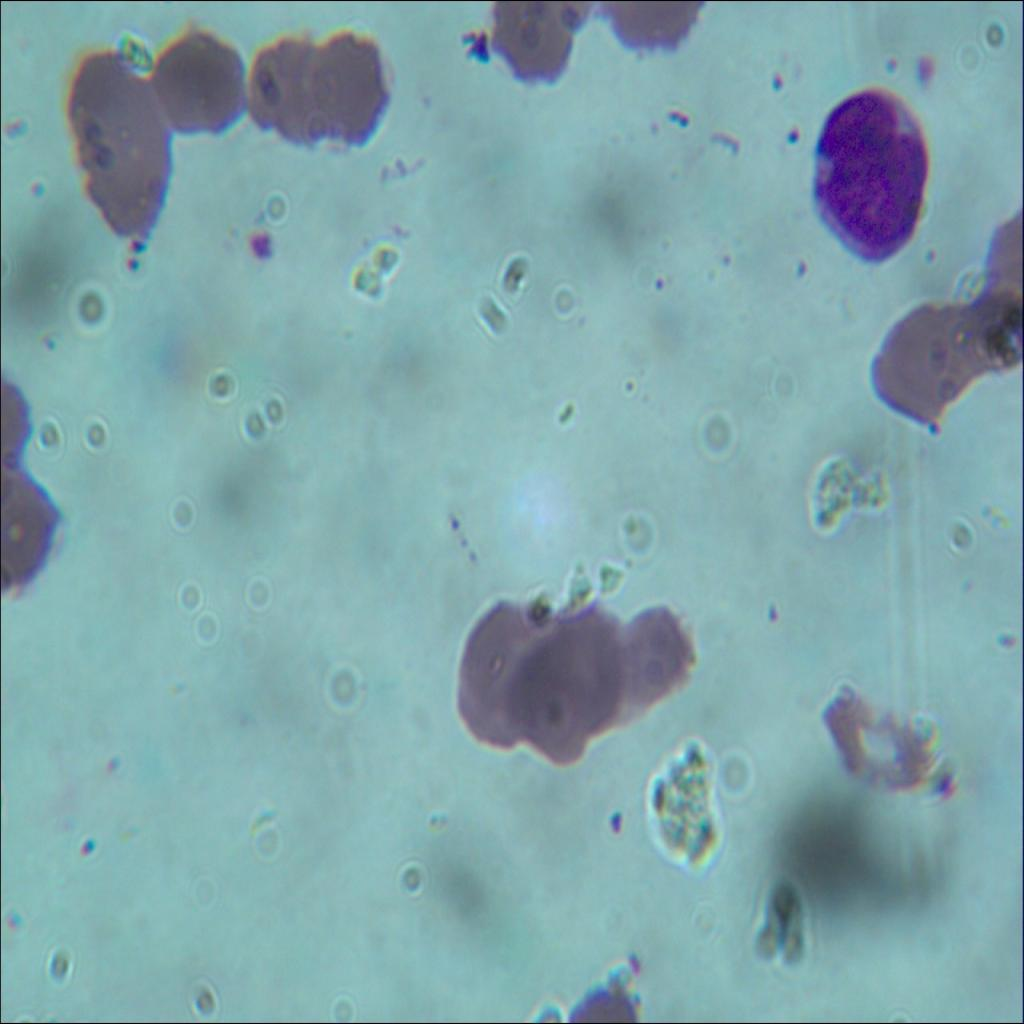Eritrosit: (515, 611, 624, 765), (453, 592, 541, 749), (870, 298, 973, 422), (821, 684, 933, 794), (149, 26, 248, 138), (304, 28, 395, 148), (246, 34, 328, 148), (610, 605, 696, 711), (93, 115, 170, 232), (490, 0, 573, 94), (64, 44, 130, 156)
Limfoblast: (810, 88, 928, 266)
Platelet: (598, 801, 640, 856), (918, 758, 958, 808), (71, 829, 113, 868), (911, 44, 943, 90), (243, 225, 278, 265), (94, 746, 126, 785), (618, 939, 649, 979), (783, 250, 815, 282), (764, 68, 791, 102), (464, 24, 488, 62), (24, 172, 46, 208), (762, 595, 786, 624), (781, 120, 802, 152), (880, 48, 900, 81), (2, 904, 24, 934), (124, 248, 141, 280), (715, 244, 735, 271), (443, 502, 461, 532), (43, 330, 60, 360), (649, 269, 666, 295), (128, 230, 146, 252), (924, 417, 946, 434)
